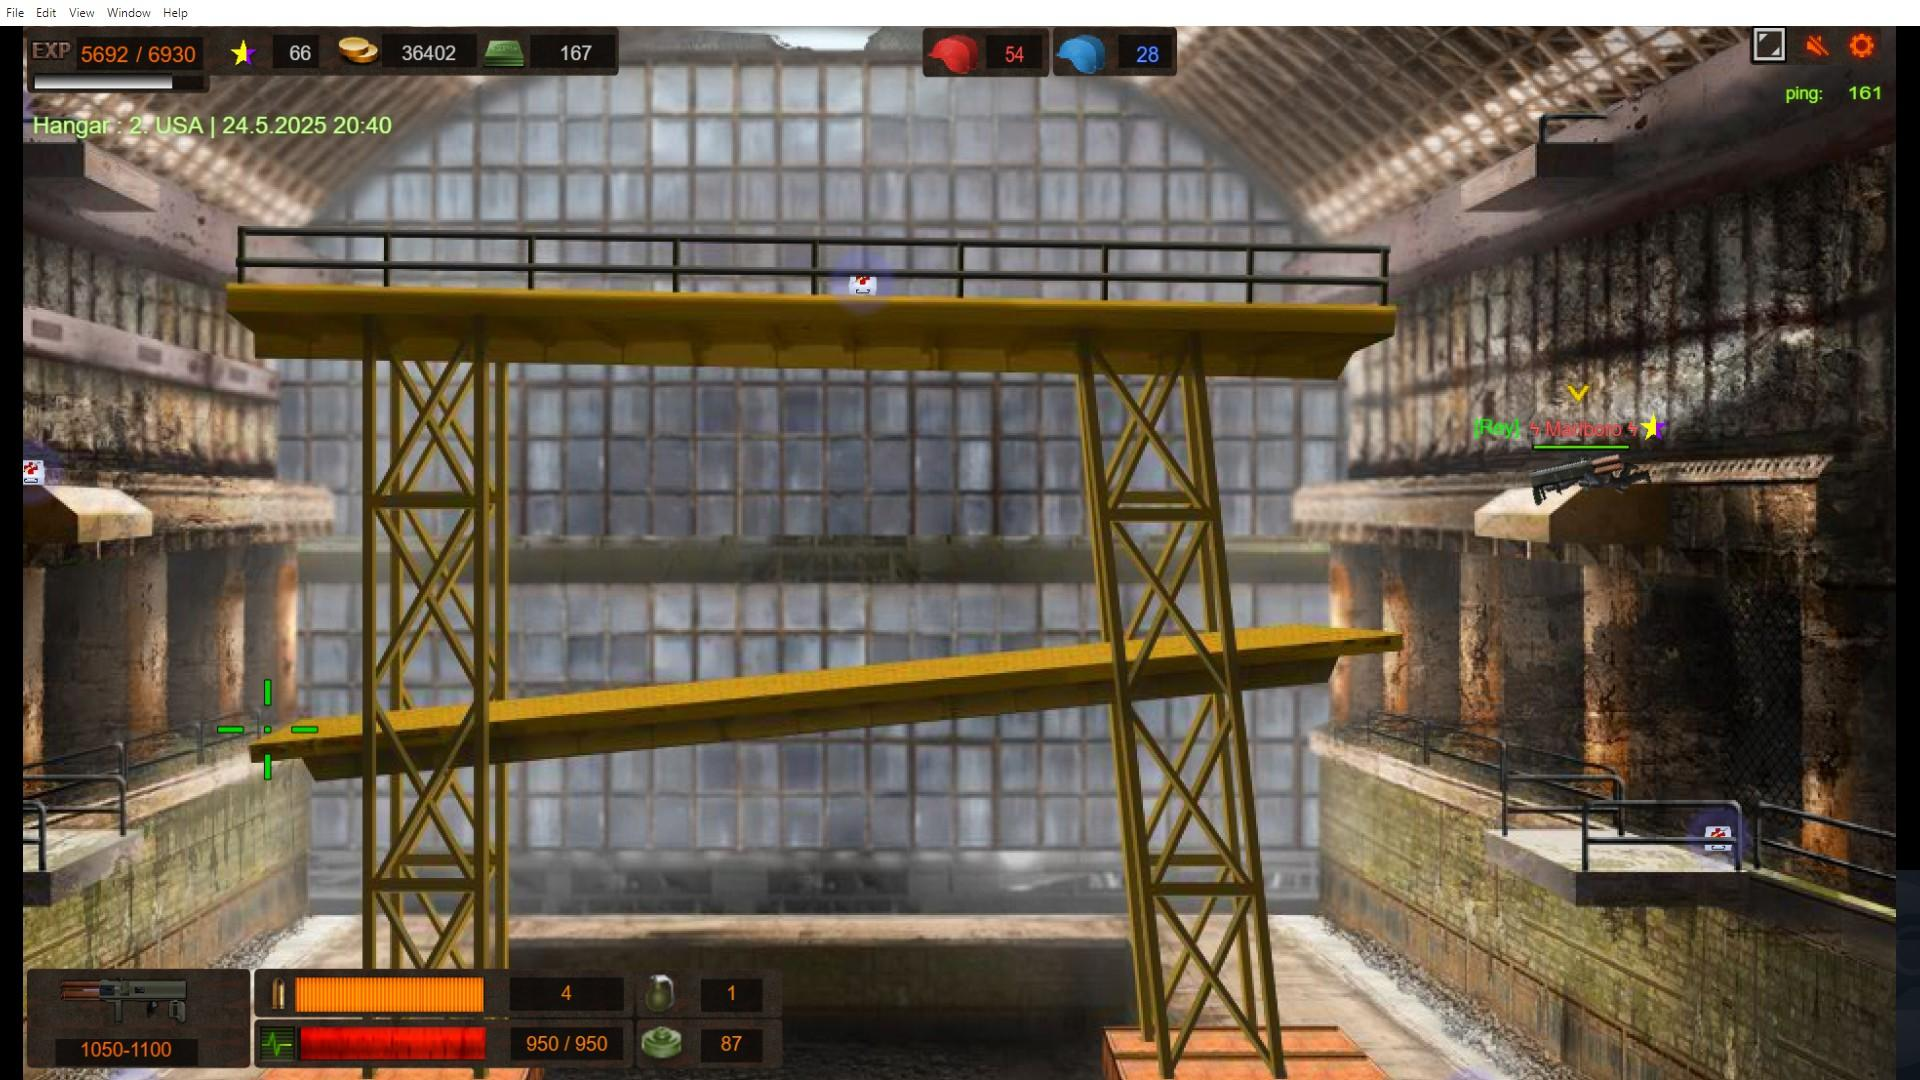enemy: (1560, 459, 1648, 487)
